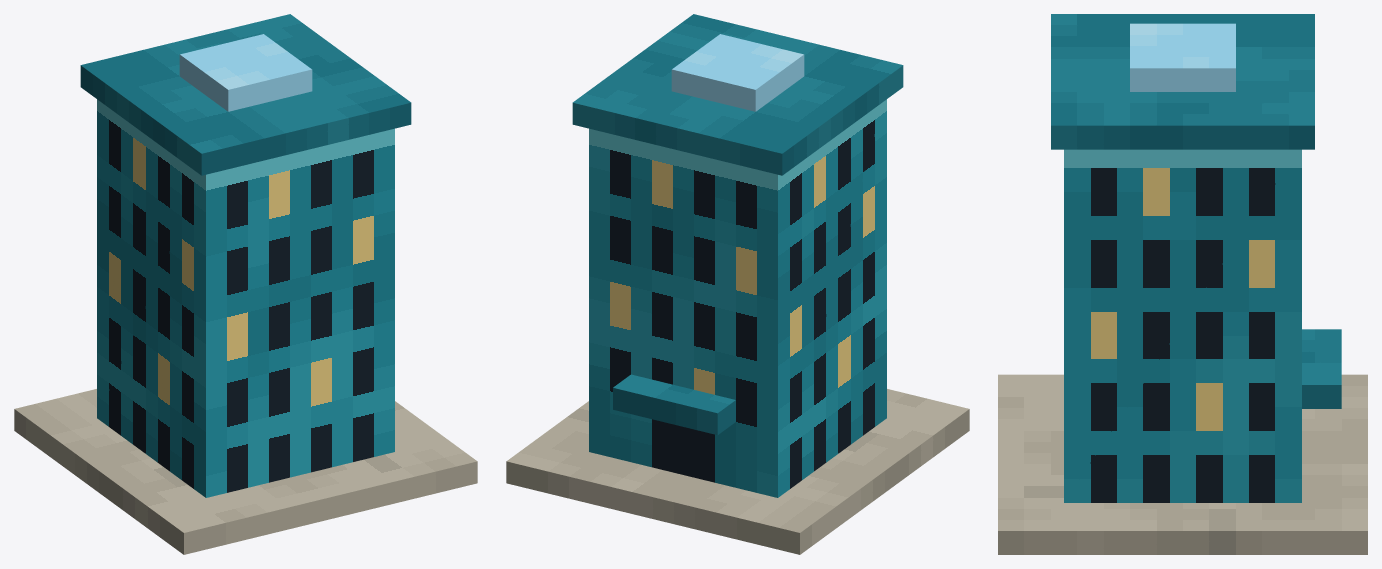
File: city_blue.glb
3 renders of one model, left to right at view 1: azimuth 30°, elevation 25°; view 2: azimuth 150°, elevation 25°; view 3: azimuth 270°, elevation 25°, orthographic. The views are drawn at different scales.
Parts seen in each view (by area): view 1: body; view 2: body; view 3: body.
Part boxes in pixels (x1,y1,x2,y2): body: (14,14,477,554); body: (506,14,969,554); body: (998,14,1367,554).
Size of the model in its own units: 0.875 by 1.12 by 0.875.
1 material, 1 textured.
